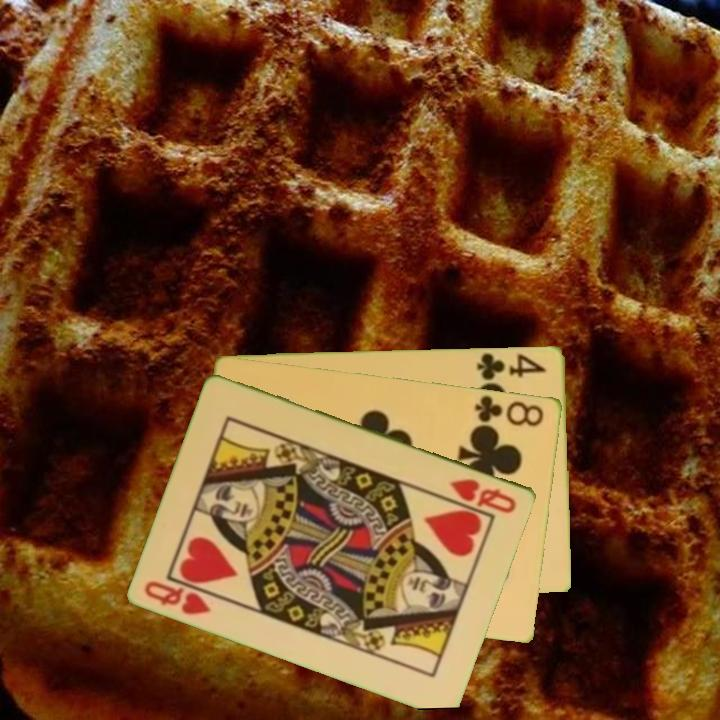4c: (473, 349, 549, 383)
8c: (471, 391, 547, 429)
Qh: (141, 575, 225, 618), (446, 474, 520, 516)
